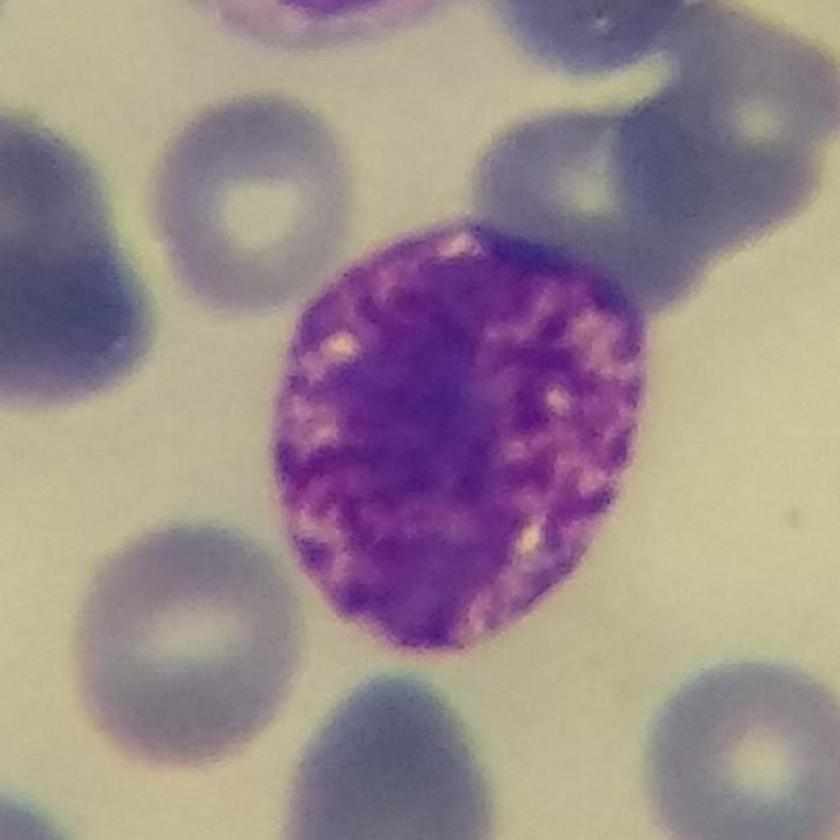basophil: (270, 214, 649, 657)
